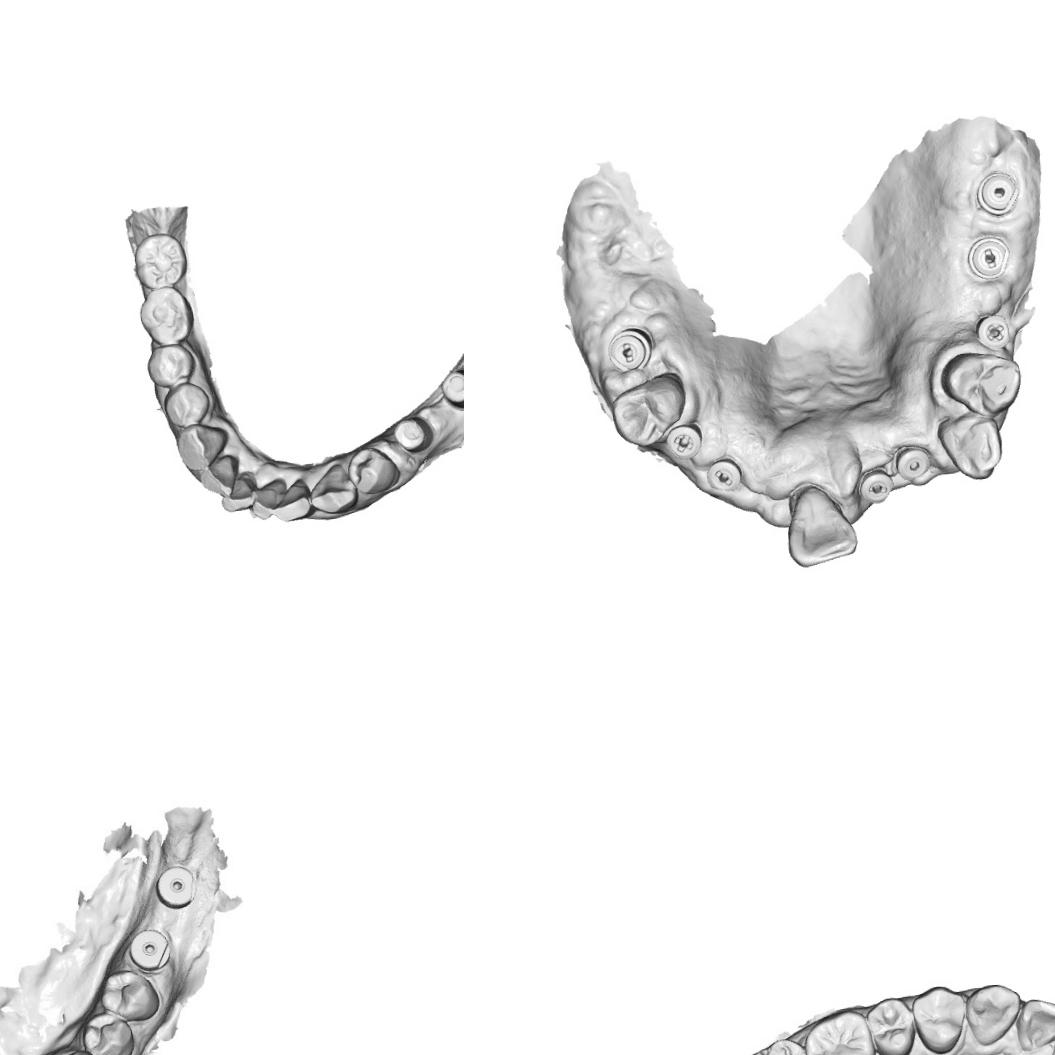abutment: (390, 413, 435, 454), (438, 366, 464, 409)
canine: (936, 412, 1004, 482), (964, 982, 1022, 1048), (306, 461, 359, 515), (173, 421, 229, 472)
implant: (152, 859, 198, 914), (976, 171, 1020, 214), (126, 927, 170, 969), (893, 444, 932, 481)
implant_minus: (966, 234, 1011, 280), (608, 328, 650, 370), (858, 468, 893, 504), (705, 458, 742, 492)
implant_plus: (666, 420, 704, 461), (973, 312, 1012, 350)
incisor: (783, 484, 858, 570), (1014, 995, 1055, 1054), (272, 476, 312, 522), (198, 453, 236, 499), (218, 475, 258, 514), (249, 479, 286, 520)
molar: (136, 284, 196, 347), (801, 1006, 878, 1055), (132, 231, 188, 290), (741, 1036, 812, 1055)
premolar: (608, 368, 688, 448), (938, 349, 1024, 418), (908, 982, 967, 1055), (100, 967, 161, 1026), (863, 994, 917, 1055), (344, 444, 400, 496), (160, 380, 212, 428), (144, 342, 197, 388), (84, 1011, 135, 1055)
